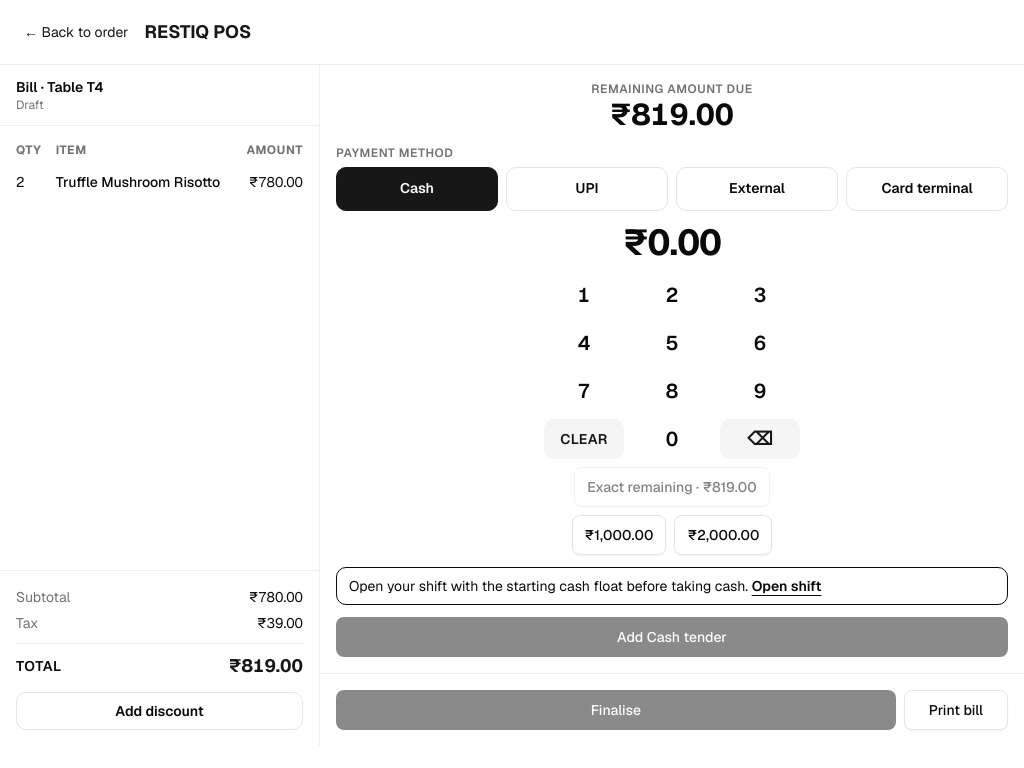
Test: BillSettleView - no shift open (restiq-web#341) › asks the cashier to open a shift before taking cash, but still takes an external payment
The image size is (1024, 768).
Check: the message "Open your shift with the starting cash float before taking cash. Open shift" is shown, box [336,566,1008,604]
Check: the button with test id "tender-fill-remaining" is disabled, box [574,466,770,506]
Click the button with test id "tender-method-external": {"x": 757, "y": 189} [676,167,838,210]
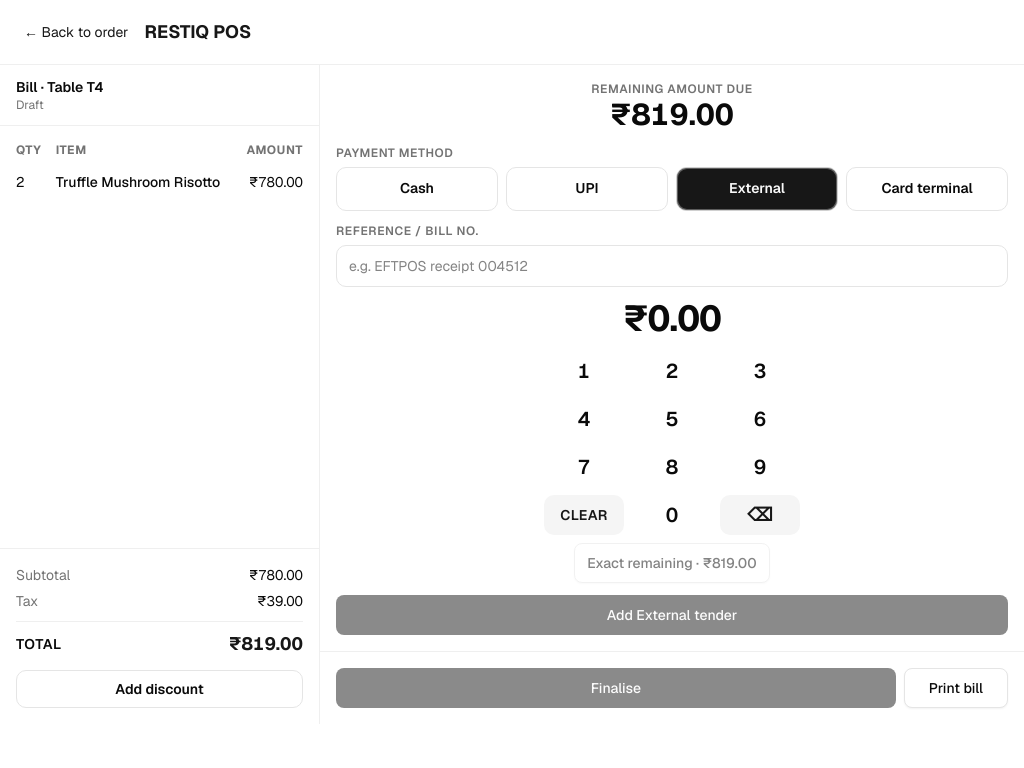
Check: the message with test id "tender-shift-required" is gone
In the field with test id "tender-external-reference": {"x": 672, "y": 266} [336,244,1008,286], type "EFT-1"
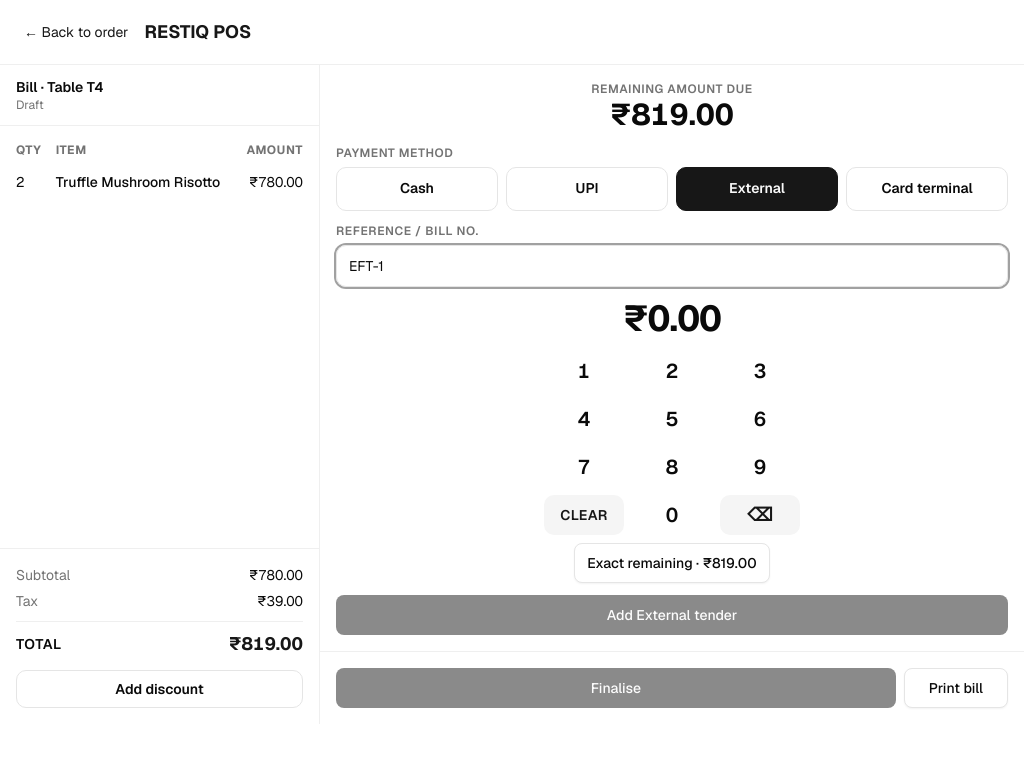
Check: the button with test id "tender-fill-remaining" is enabled, box [574,542,770,582]
